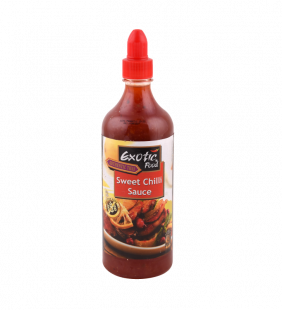EXOTIC FOOD: (96, 25, 180, 284)
